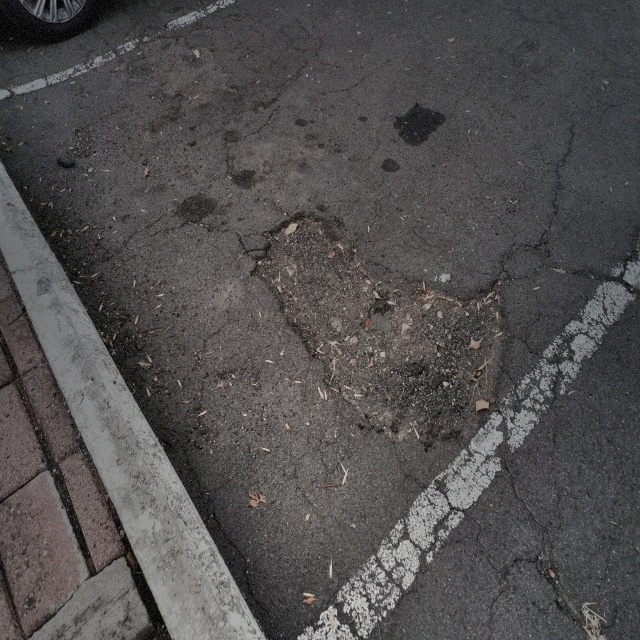pothole: (235, 200, 510, 455)
